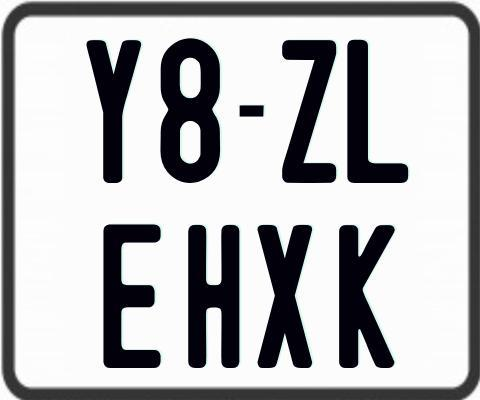8: (160, 37, 225, 184)
E: (103, 223, 166, 370)
H: (187, 223, 242, 370)
K: (336, 223, 395, 369)
L: (344, 37, 407, 183)
X: (257, 223, 316, 369)
Y: (85, 37, 141, 185)
Z: (280, 39, 340, 188)
